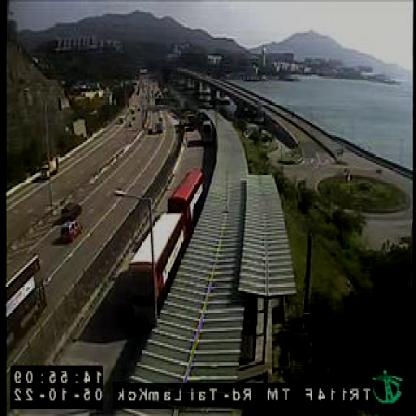Bus: (134, 213, 186, 328), (8, 253, 45, 352), (169, 168, 204, 232)
Car: (61, 220, 82, 243)
